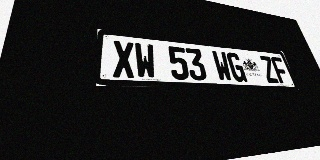3: (185, 48, 208, 81)
5: (168, 46, 190, 80)
F: (270, 57, 291, 84)
G: (226, 52, 248, 82)
W: (134, 42, 157, 79), (211, 51, 233, 82)
X: (112, 40, 136, 78)
Z: (258, 55, 280, 83)
